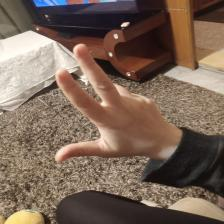three: (50, 45, 167, 164)
